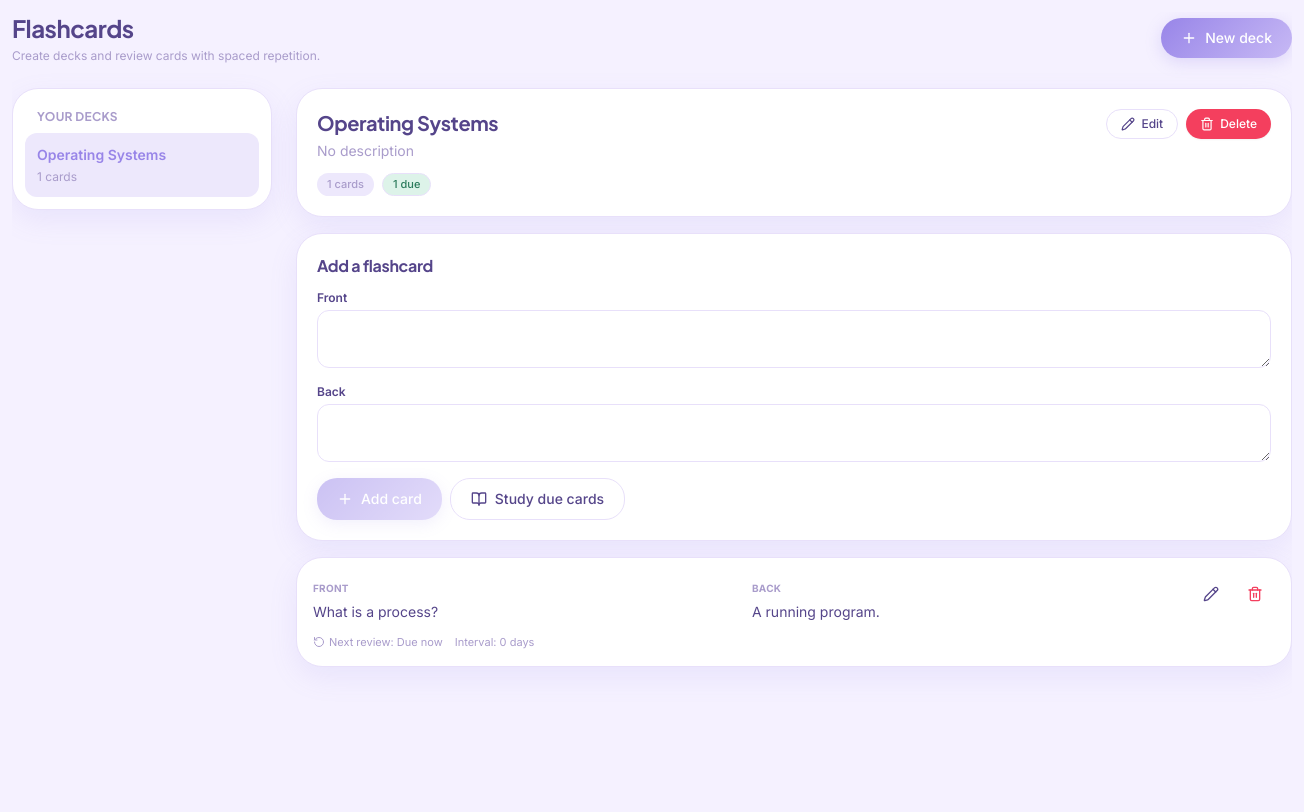
Test: FlashcardsPage › reviews a due card and updates to the empty due state
Check: the text "What is a process?" is shown, box [313,602,438,620]
Click the button "Study due cards": [537, 498] box [450,478,625,520]
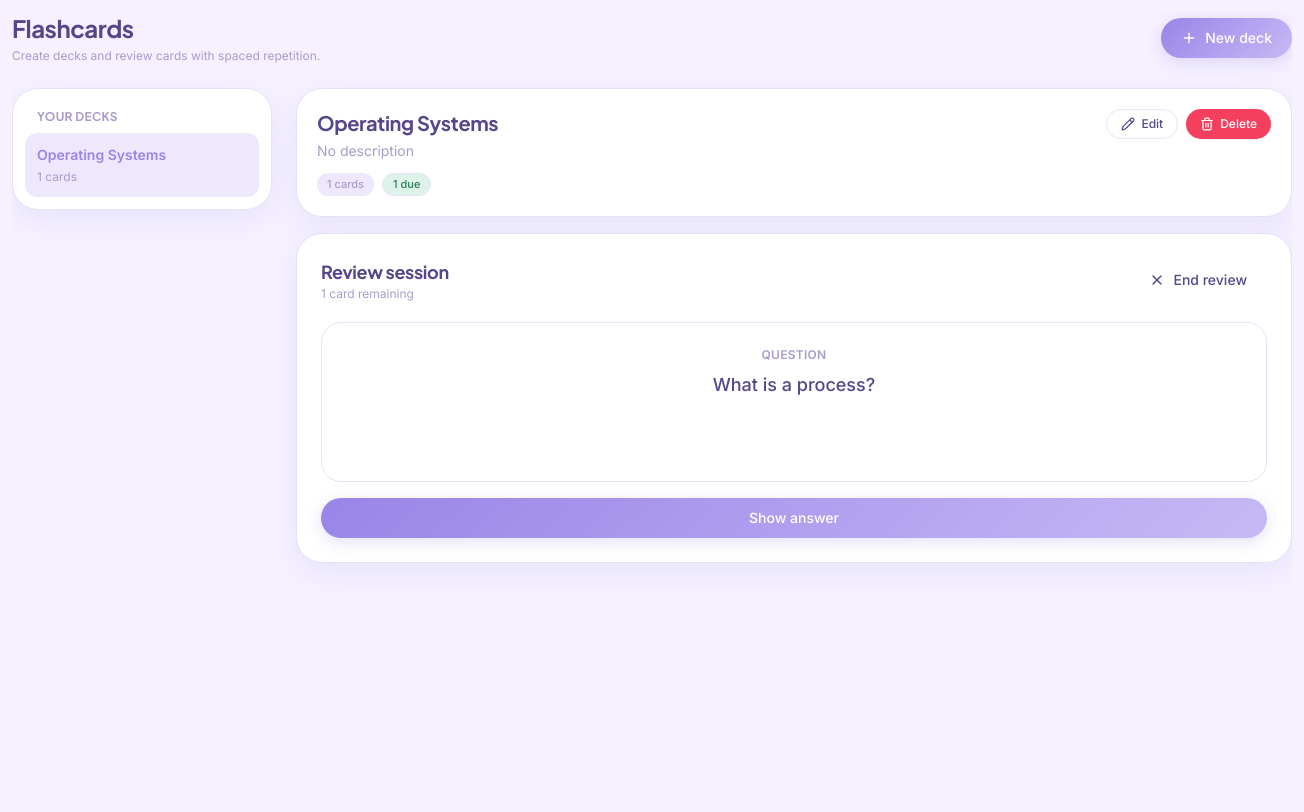
Click the button "Show answer": [794, 518] box [321,498,1267,538]
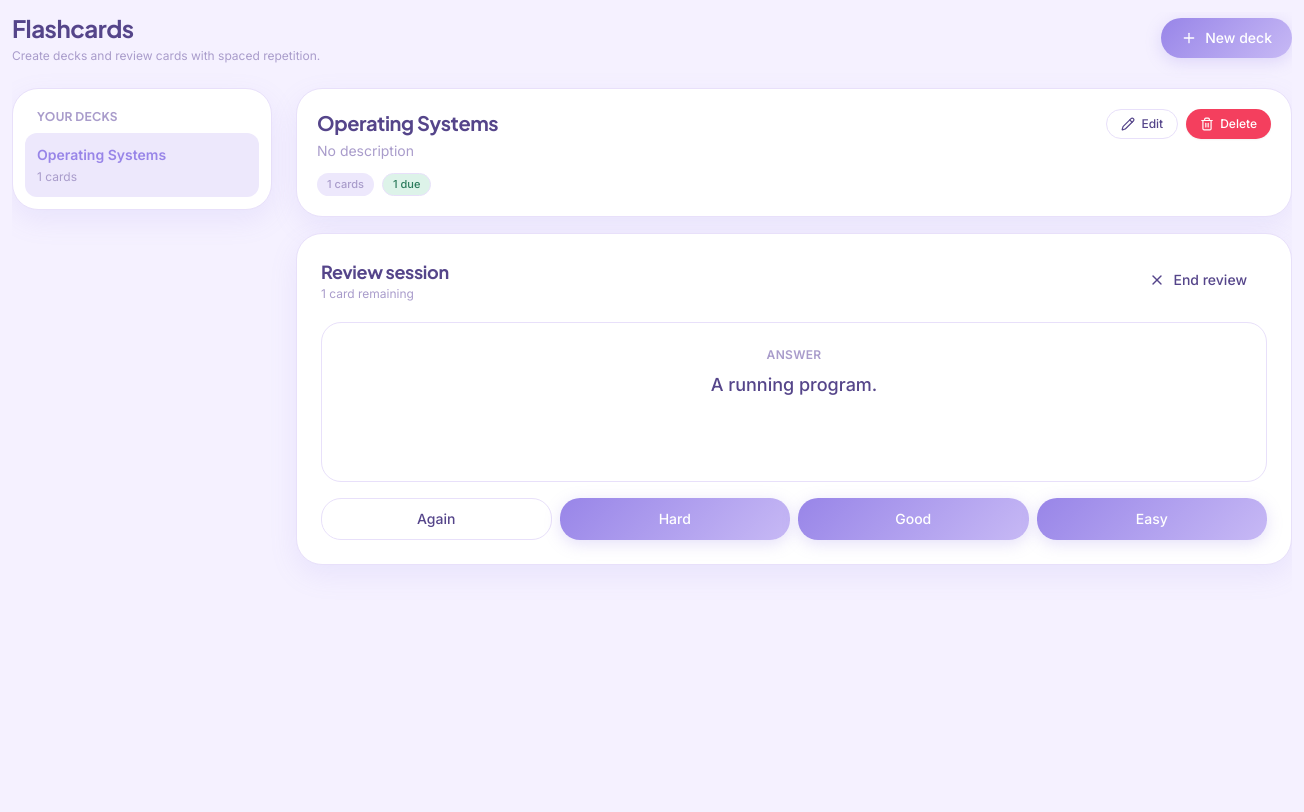
Check: the text "A running program." is shown, box [711,374,877,394]
Click the button "Good": [913, 518] box [798,498,1028,540]
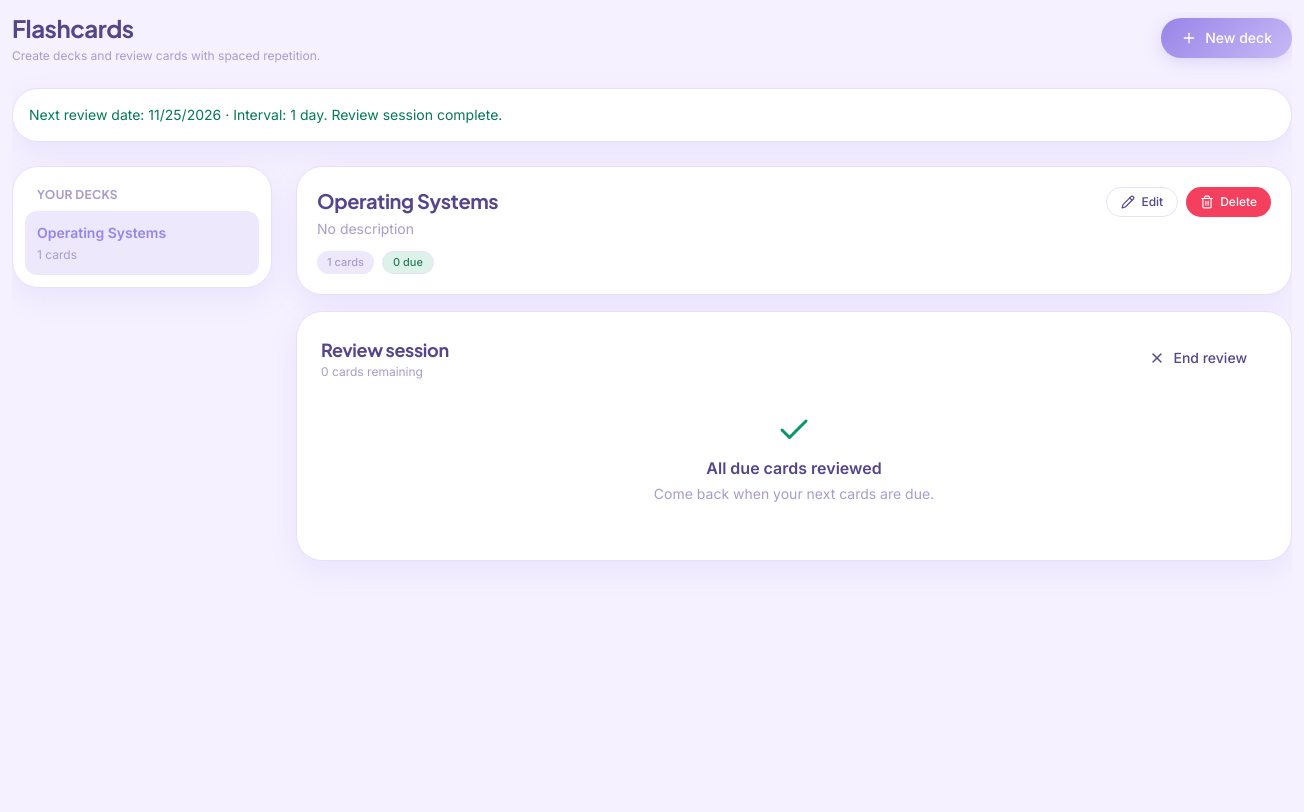
Check: the text "All due cards reviewed" is shown, box [706,458,882,478]
